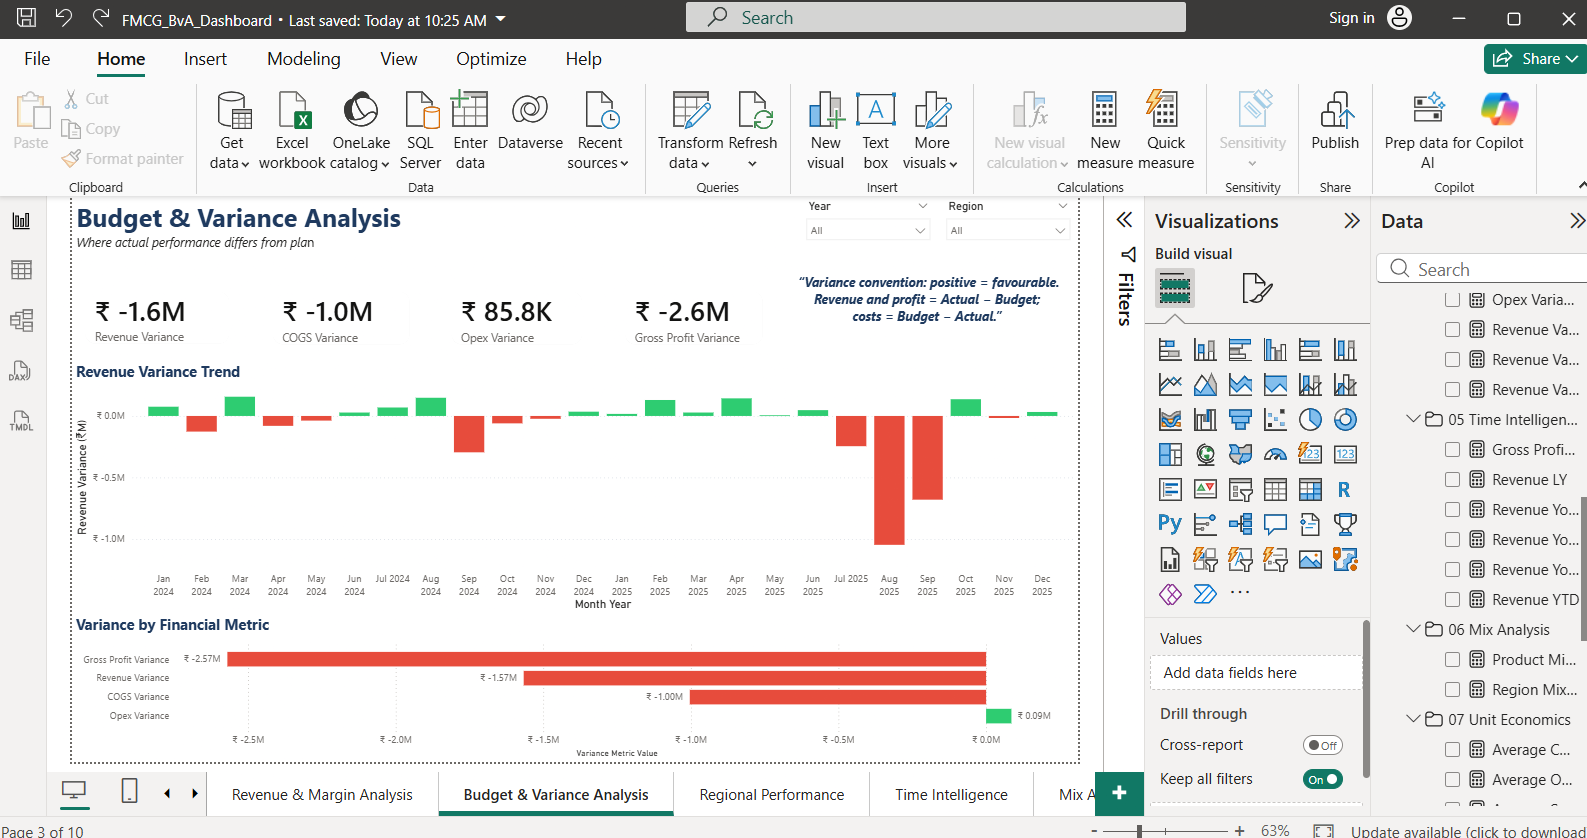

The page's visual inventory and layout, read from the dashboard file:
{"tool":"powerbi","page":{"name":"Budget & Variance Analysis","canvas":[1280,720],"ordinal":2},"visuals":[{"type":"textbox","box":[0,0,1279,76],"z":0},{"type":"slicer","fields":{"Values":["Dim_Region.Region"]},"box":[1102,0,178.1,76.3],"z":1000},{"type":"slicer","fields":{"Values":["Dim_Date.Year"]},"box":[923.9,0,178.1,76.3],"z":2000},{"type":"cardVisual","fields":{"Data":["_Measures.Gross Profit Variance"]},"box":[686.9,104.9,209.9,101.8],"z":3000},{"type":"cardVisual","fields":{"Data":["_Measures.COGS Variance"]},"box":[238,104.9,208.3,101.8],"z":4000},{"type":"cardVisual","fields":{"Data":["_Measures.Revenue Variance"]},"box":[0,104.9,217.8,100.2],"z":5000},{"type":"cardVisual","fields":{"Data":["_Measures.Opex Variance"]},"box":[466.4,104.9,200.4,101.8],"z":6000},{"type":"clusteredColumnChart","title":"Revenue Variance Trend","fields":{"Category":["Dim_Date.MonthYear"],"Y":["_Measures.Revenue Variance"]},"box":[0,209.9,1278.5,322.8],"z":7000},{"type":"clusteredBarChart","title":"Variance by Financial Metric","fields":{"Category":["Variance Metrics.Metric"],"Y":["Variance Metrics.Variance Metric Value"]},"box":[0,532.7,1278.5,187.6],"z":8000},{"type":"textbox","box":[896.8,76.3,381.6,130.4],"z":9000}]}

Visuals, with their boxes on the page's 1280x720 design canvas (x1, y1, x2, y2). These are canvas units, not pixel positions in the 1587x838 screenshot, which may show the page scaled, cropped or inside an application window:
textbox: [x1=0, y1=0, x2=1279, y2=76]
slicer - Dim_Region.Region: [x1=1102, y1=0, x2=1280, y2=76]
slicer - Dim_Date.Year: [x1=924, y1=0, x2=1102, y2=76]
cardVisual - _Measures.Gross Profit Variance: [x1=687, y1=105, x2=897, y2=207]
cardVisual - _Measures.COGS Variance: [x1=238, y1=105, x2=446, y2=207]
cardVisual - _Measures.Revenue Variance: [x1=0, y1=105, x2=218, y2=205]
cardVisual - _Measures.Opex Variance: [x1=466, y1=105, x2=667, y2=207]
"Revenue Variance Trend" clusteredColumnChart: [x1=0, y1=210, x2=1278, y2=533]
"Variance by Financial Metric" clusteredBarChart: [x1=0, y1=533, x2=1278, y2=720]
textbox: [x1=897, y1=76, x2=1278, y2=207]
